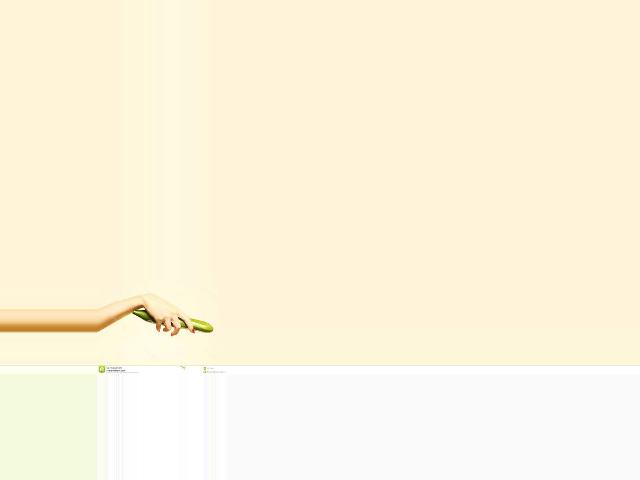cucumber: (131, 310, 213, 333)
